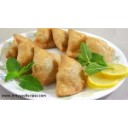samosa: (58, 54, 87, 95), (82, 34, 117, 67), (32, 43, 58, 85), (14, 37, 38, 66), (66, 28, 88, 56), (35, 27, 60, 48), (50, 25, 71, 49)
